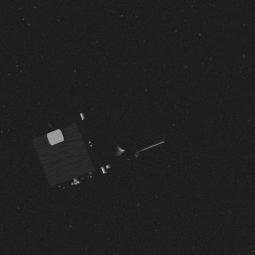proba_3_csc: (26, 110, 137, 192)
